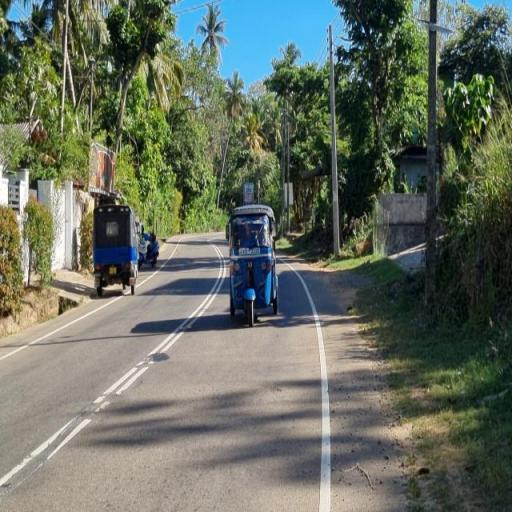double_white_line: (94, 244, 229, 410), (0, 416, 91, 490)
